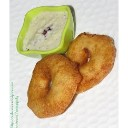vada: (26, 54, 79, 119), (67, 33, 115, 95)
